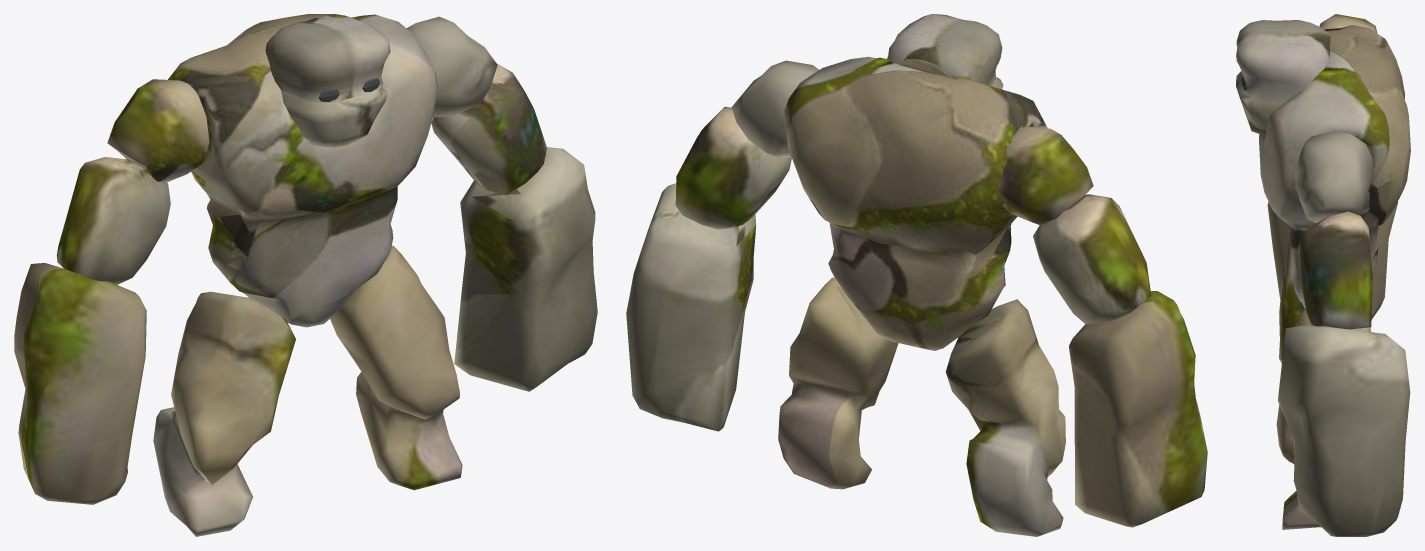
Rendered from golem.fbx.
The picture shows the model from 3 angles, left to right: view 1: azimuth 30°, elevation 25°; view 2: azimuth 150°, elevation 25°; view 3: azimuth 270°, elevation 25°; orthographic projection. The views are drawn at different scales.
Parts seen in each view (by area): view 1: hands_leg_001, torso_001, head_001; view 2: hands_leg_001, torso_001, head_001; view 3: hands_leg_001, torso_001, head_001.
Boxes of the visible parts, bbox=[...] form: hands_leg_001: bbox=[14, 16, 597, 536]; torso_001: bbox=[168, 14, 437, 327]; head_001: bbox=[265, 17, 390, 147]; hands_leg_001: bbox=[626, 60, 1207, 536]; torso_001: bbox=[784, 56, 1047, 350]; head_001: bbox=[887, 14, 1003, 89]; hands_leg_001: bbox=[1267, 14, 1410, 536]; torso_001: bbox=[1259, 25, 1410, 308]; head_001: bbox=[1236, 20, 1331, 135].
Bounding box in the file's own units: 1190 × 958 × 341.
Materials: 2 (1 with a texture image).
